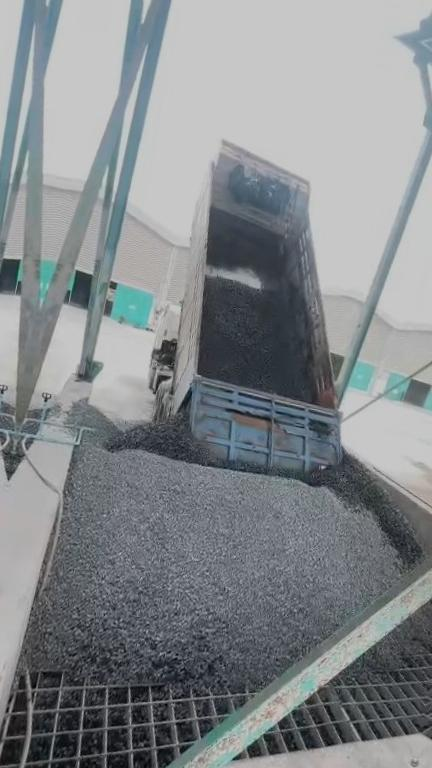gravel: (26, 397, 424, 691), (199, 275, 312, 401), (350, 591, 432, 681)
sand: (382, 456, 432, 525)
